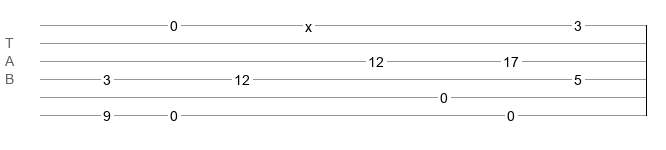0: (170, 18, 178, 28), (170, 108, 178, 118), (440, 90, 448, 100), (507, 108, 515, 118)
12: (234, 72, 250, 82), (368, 54, 384, 64)
17: (503, 54, 519, 64)
3: (103, 72, 111, 82), (574, 18, 582, 28)
5: (574, 72, 582, 82)
9: (103, 108, 111, 118)
x: (305, 19, 312, 27)
